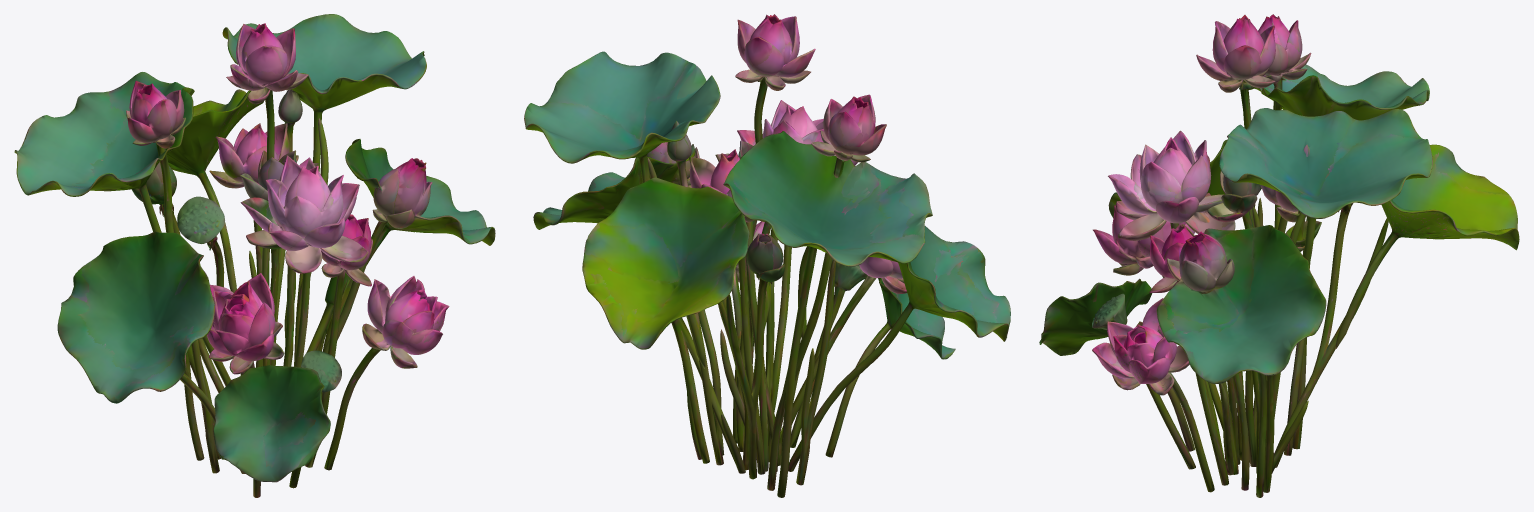
The model's file is HeHua_4.glb.
The picture shows the model from 3 angles, left to right: view 1: azimuth 30°, elevation 25°; view 2: azimuth 150°, elevation 25°; view 3: azimuth 270°, elevation 25°; orthographic projection.
Visible parts, largest first — view 1: node_0; view 2: node_0; view 3: node_0.
Part boxes in pixels (x1,y1,x2,y2): node_0: (14,14,495,497); node_0: (524,14,1010,497); node_0: (1039,14,1519,497).
Bounding box in the file's own units: 1.01 × 1.01 × 0.9802.
1 material, 1 textured.
